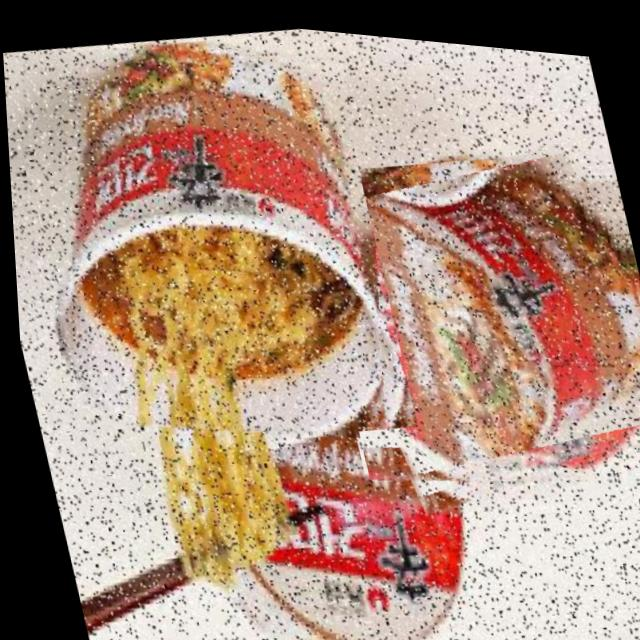Miscellaneous: (0, 0, 415, 481), (293, 110, 640, 520)
